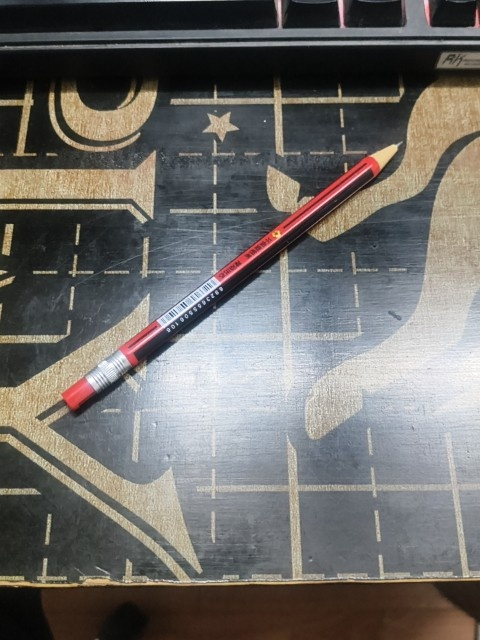pen: (38, 142, 397, 418)
